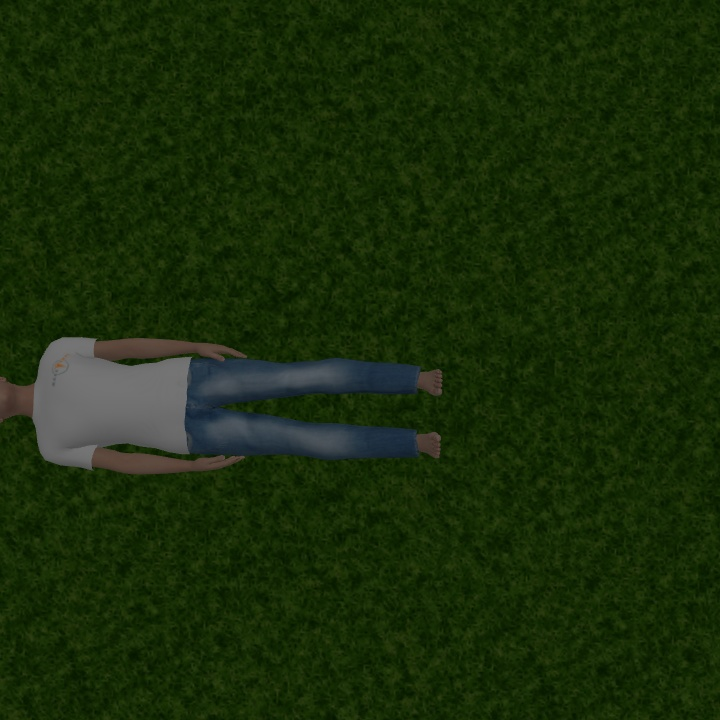victim: (1, 330, 448, 477)
